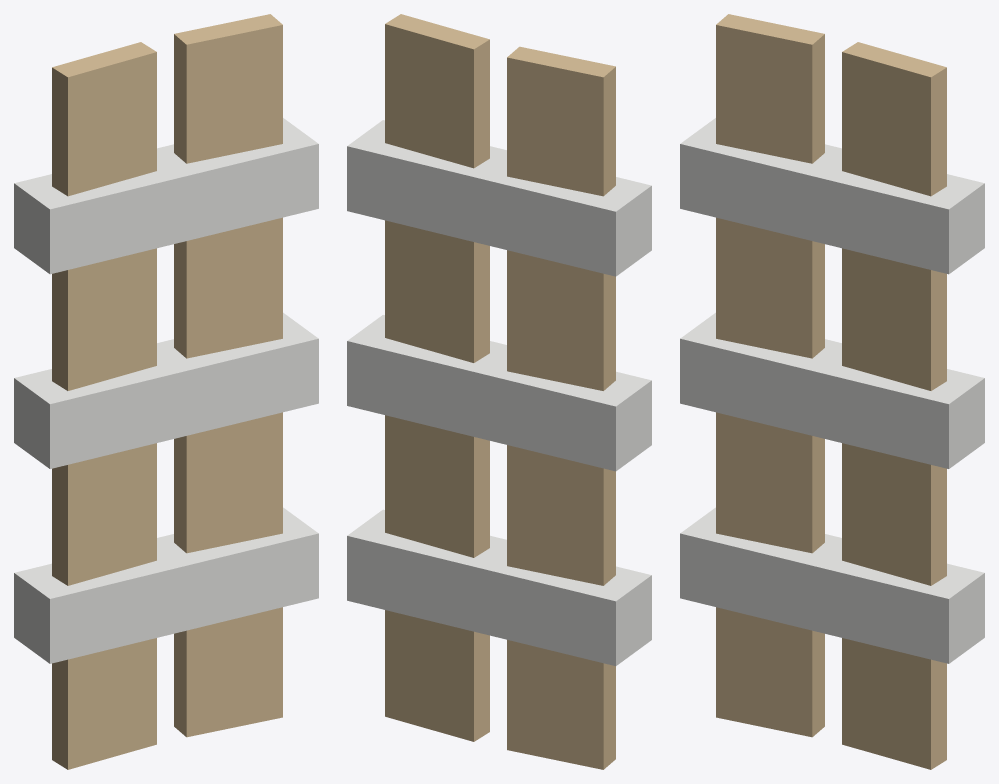
The model's file is tala.glb.
3 renders of one model, left to right at view 1: azimuth 30°, elevation 25°; view 2: azimuth 150°, elevation 25°; view 3: azimuth 330°, elevation 25°, orthographic.
Parts seen in each view (by area): view 1: tala; view 2: tala; view 3: tala.
Boxes of the visible parts, x1,y1,x2,y2 form: tala: [14, 14, 318, 769]; tala: [347, 14, 651, 769]; tala: [680, 14, 984, 769].
Bounding box in the file's own units: 0.13 × 0.32 × 0.03.
